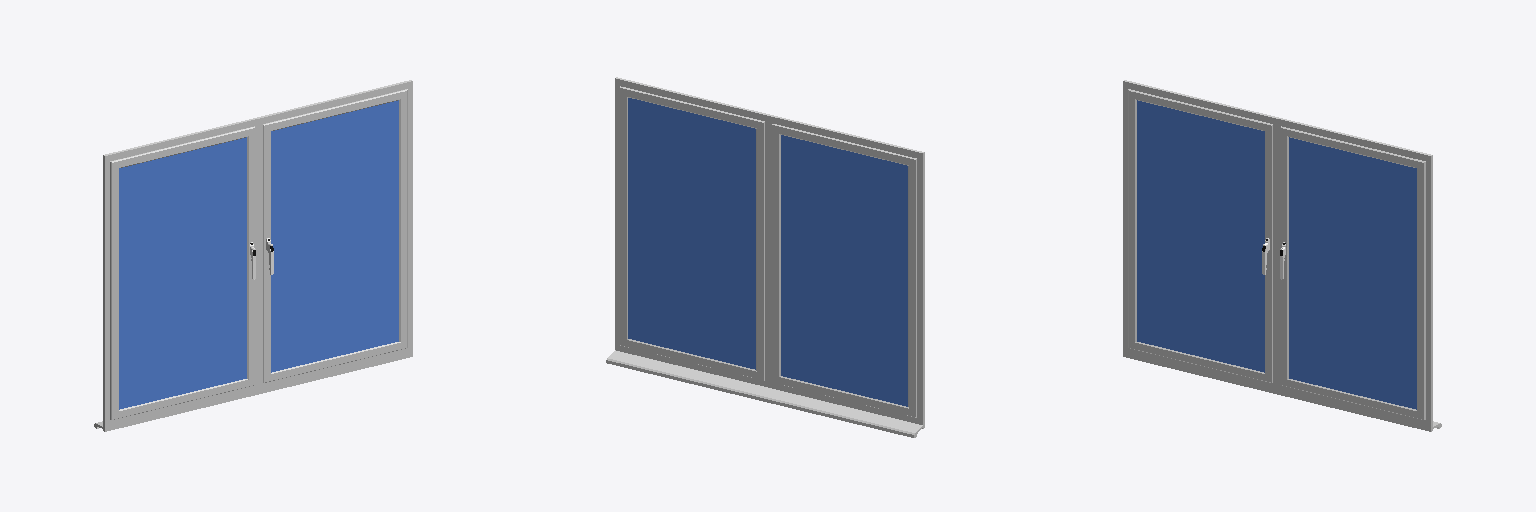
The model's file is u246bfc1a-8542-4f7d-8f53-8c48101832db.obj.
3 renders of one model, left to right at view 1: azimuth 30°, elevation 25°; view 2: azimuth 150°, elevation 25°; view 3: azimuth 330°, elevation 25°, orthographic.
Visible parts, largest first — view 1: Mesh9_Glass2_Component_1_2_Component_2_1_Model, Mesh4_Glass1_Component_1_1_Component_2_1_Model.001, Mesh11_Component_2_1_Model, Mesh1_Frame1_Component_1_1_Component_2_1_Model.001, Mesh6_Frame2_Component_1_2_Component_2_1_Model; view 2: Mesh3_Glass1_Component_1_1_Component_2_1_Model.001, Mesh8_Glass2_Component_1_2_Component_2_1_Model.001, Mesh11_Component_2_1_Model, Mesh6_Frame2_Component_1_2_Component_2_1_Model, Mesh1_Frame1_Component_1_1_Component_2_1_Model.001; view 3: Mesh4_Glass1_Component_1_1_Component_2_1_Model.001, Mesh9_Glass2_Component_1_2_Component_2_1_Model, Mesh11_Component_2_1_Model, Mesh6_Frame2_Component_1_2_Component_2_1_Model, Mesh1_Frame1_Component_1_1_Component_2_1_Model.001.
Part boxes in pixels (x1,y1,x2,y2): Mesh9_Glass2_Component_1_2_Component_2_1_Model: (119,137,246,409); Mesh4_Glass1_Component_1_1_Component_2_1_Model.001: (271,100,398,372); Mesh11_Component_2_1_Model: (94,80,412,431); Mesh1_Frame1_Component_1_1_Component_2_1_Model.001: (263,89,407,382); Mesh6_Frame2_Component_1_2_Component_2_1_Model: (110,126,254,419); Mesh3_Glass1_Component_1_1_Component_2_1_Model.001: (628,98,755,369); Mesh8_Glass2_Component_1_2_Component_2_1_Model.001: (781,135,907,406); Mesh11_Component_2_1_Model: (606,77,924,437); Mesh6_Frame2_Component_1_2_Component_2_1_Model: (772,124,916,417); Mesh1_Frame1_Component_1_1_Component_2_1_Model.001: (620,86,764,380); Mesh4_Glass1_Component_1_1_Component_2_1_Model.001: (1289,137,1416,409); Mesh9_Glass2_Component_1_2_Component_2_1_Model: (1137,100,1264,372); Mesh11_Component_2_1_Model: (1123,80,1441,431); Mesh6_Frame2_Component_1_2_Component_2_1_Model: (1128,89,1272,382); Mesh1_Frame1_Component_1_1_Component_2_1_Model.001: (1281,126,1425,419).
Size of the model in its own units: 4.44 by 3.84 by 0.3771.